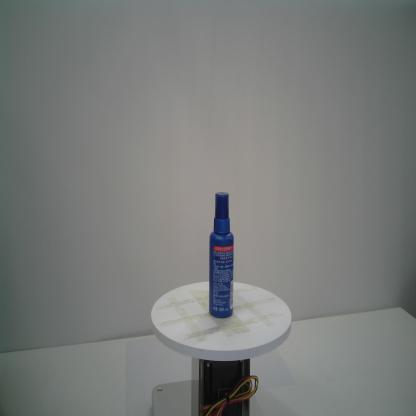Personal Hygiene: (208, 191, 235, 318)
